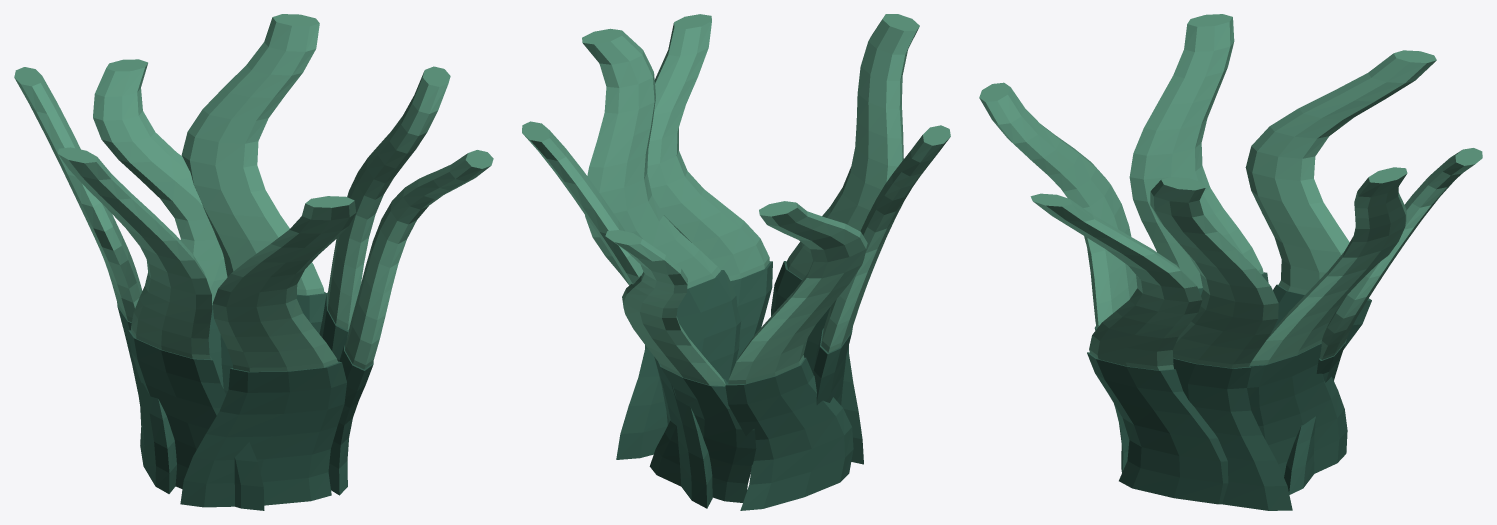
Rendered from vge_oxyalgae_plant_b.obj.
3 views of the same model, side by side, from view 1: azimuth 30°, elevation 25°; view 2: azimuth 150°, elevation 25°; view 3: azimuth 270°, elevation 25° (orthographic).
Visible parts, largest first — view 1: vge_oxyalgae_plant_b_3, vge_oxyalgae_plant_b_10, vge_oxyalgae_plant_b_11, vge_oxyalgae_plant_b_9, vge_oxyalgae_plant_b_5, vge_oxyalgae_plant_b_1, vge_oxyalgae_plant_b_8, vge_oxyalgae_plant_b_13, vge_oxyalgae_plant_b_7, vge_oxyalgae_plant_b_6, vge_oxyalgae_plant_b_12, vge_oxyalgae_plant_b_2 (+2 smaller); view 2: vge_oxyalgae_plant_b_1, vge_oxyalgae_plant_b_6, vge_oxyalgae_plant_b_13, vge_oxyalgae_plant_b_7, vge_oxyalgae_plant_b_11, vge_oxyalgae_plant_b_0, vge_oxyalgae_plant_b_5, vge_oxyalgae_plant_b_4, vge_oxyalgae_plant_b_9, vge_oxyalgae_plant_b_3, vge_oxyalgae_plant_b_2, vge_oxyalgae_plant_b_10 (+2 smaller); view 3: vge_oxyalgae_plant_b_7, vge_oxyalgae_plant_b_9, vge_oxyalgae_plant_b_1, vge_oxyalgae_plant_b_12, vge_oxyalgae_plant_b_13, vge_oxyalgae_plant_b_11, vge_oxyalgae_plant_b_3, vge_oxyalgae_plant_b_0, vge_oxyalgae_plant_b_2, vge_oxyalgae_plant_b_5, vge_oxyalgae_plant_b_4, vge_oxyalgae_plant_b_6.
Boxes of the visible parts, x1=… form: vge_oxyalgae_plant_b_3: x1=181, y1=14, x2=324, y2=295; vge_oxyalgae_plant_b_10: x1=180, y1=361, x2=346, y2=507; vge_oxyalgae_plant_b_11: x1=212, y1=196, x2=356, y2=371; vge_oxyalgae_plant_b_9: x1=58, y1=147, x2=212, y2=359; vge_oxyalgae_plant_b_5: x1=93, y1=59, x2=227, y2=305; vge_oxyalgae_plant_b_1: x1=327, y1=66, x2=450, y2=330; vge_oxyalgae_plant_b_8: x1=128, y1=330, x2=264, y2=510; vge_oxyalgae_plant_b_13: x1=345, y1=150, x2=493, y2=369; vge_oxyalgae_plant_b_7: x1=14, y1=67, x2=142, y2=322; vge_oxyalgae_plant_b_6: x1=117, y1=302, x2=176, y2=493; vge_oxyalgae_plant_b_12: x1=328, y1=345, x2=373, y2=495; vge_oxyalgae_plant_b_2: x1=220, y1=292, x2=326, y2=394; vge_oxyalgae_plant_b_1: x1=582, y1=28, x2=720, y2=288; vge_oxyalgae_plant_b_6: x1=725, y1=357, x2=853, y2=510; vge_oxyalgae_plant_b_13: x1=647, y1=14, x2=769, y2=280; vge_oxyalgae_plant_b_7: x1=728, y1=201, x2=867, y2=384; vge_oxyalgae_plant_b_11: x1=786, y1=14, x2=919, y2=279; vge_oxyalgae_plant_b_0: x1=616, y1=270, x2=741, y2=459; vge_oxyalgae_plant_b_5: x1=605, y1=230, x2=725, y2=385; vge_oxyalgae_plant_b_4: x1=649, y1=362, x2=756, y2=502; vge_oxyalgae_plant_b_9: x1=821, y1=125, x2=950, y2=352; vge_oxyalgae_plant_b_3: x1=522, y1=121, x2=643, y2=284; vge_oxyalgae_plant_b_2: x1=654, y1=357, x2=712, y2=508; vge_oxyalgae_plant_b_10: x1=771, y1=261, x2=863, y2=464; vge_oxyalgae_plant_b_7: x1=1245, y1=50, x2=1436, y2=299; vge_oxyalgae_plant_b_9: x1=1129, y1=14, x2=1263, y2=288; vge_oxyalgae_plant_b_1: x1=1150, y1=177, x2=1278, y2=368; vge_oxyalgae_plant_b_12: x1=1087, y1=352, x2=1228, y2=504; vge_oxyalgae_plant_b_13: x1=1030, y1=193, x2=1202, y2=370; vge_oxyalgae_plant_b_11: x1=979, y1=82, x2=1137, y2=328; vge_oxyalgae_plant_b_3: x1=1250, y1=167, x2=1407, y2=365; vge_oxyalgae_plant_b_0: x1=1173, y1=358, x2=1292, y2=510; vge_oxyalgae_plant_b_2: x1=1247, y1=343, x2=1347, y2=476; vge_oxyalgae_plant_b_5: x1=1320, y1=148, x2=1482, y2=359; vge_oxyalgae_plant_b_4: x1=1284, y1=339, x2=1346, y2=494; vge_oxyalgae_plant_b_6: x1=1273, y1=284, x2=1371, y2=349.
Bounding box in the file's own units: 0.5157 × 0.48 × 0.6082.
